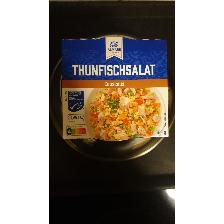Fisch: (60, 34, 170, 142)
